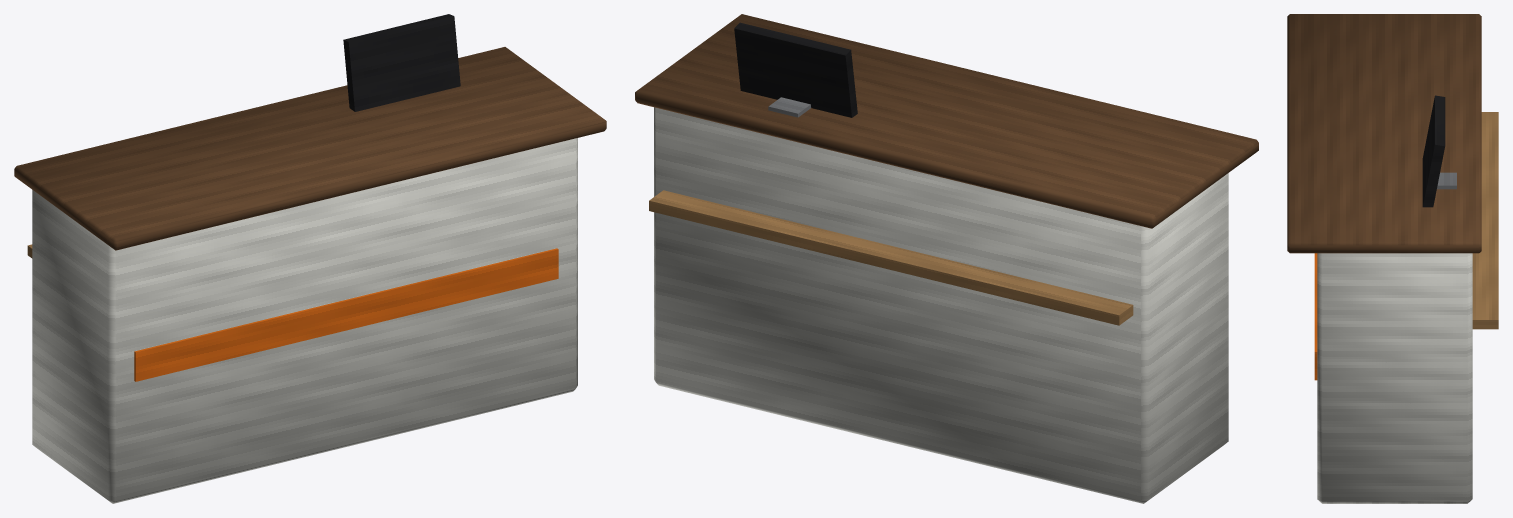
File: balcao_recepcao.glb
The picture shows the model from 3 angles, left to right: view 1: azimuth 30°, elevation 25°; view 2: azimuth 150°, elevation 25°; view 3: azimuth 270°, elevation 25°; orthographic projection. The views are drawn at different scales.
Visible parts, largest first — view 1: Inteiro; view 2: Inteiro; view 3: Inteiro.
Part boxes in pixels (x1,y1,x2,y2): Inteiro: (14, 14, 606, 503); Inteiro: (635, 14, 1258, 503); Inteiro: (1287, 14, 1498, 503).
Bounding box in the file's own units: 2.1 × 1.41 × 0.815.
Materials: 1 (1 with a texture image).
